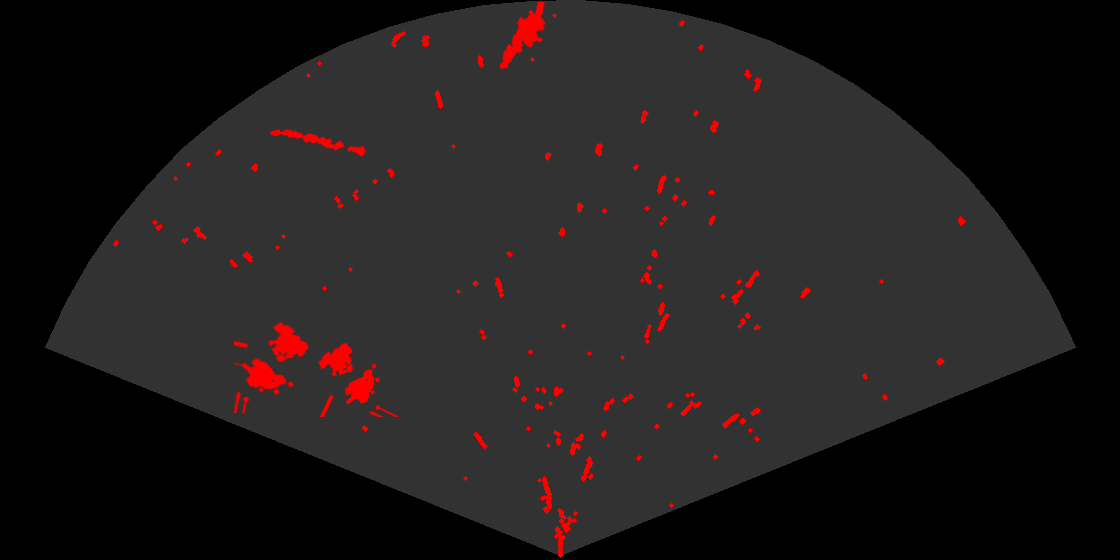cage: (234, 320, 310, 413), (317, 341, 400, 417)
chain: (268, 128, 369, 158)
frogman: (498, 2, 547, 71)
